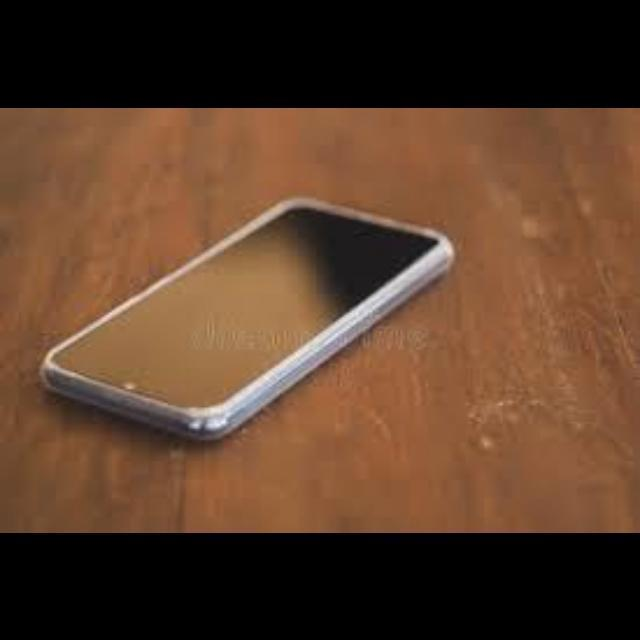phone: (44, 145, 472, 479)
